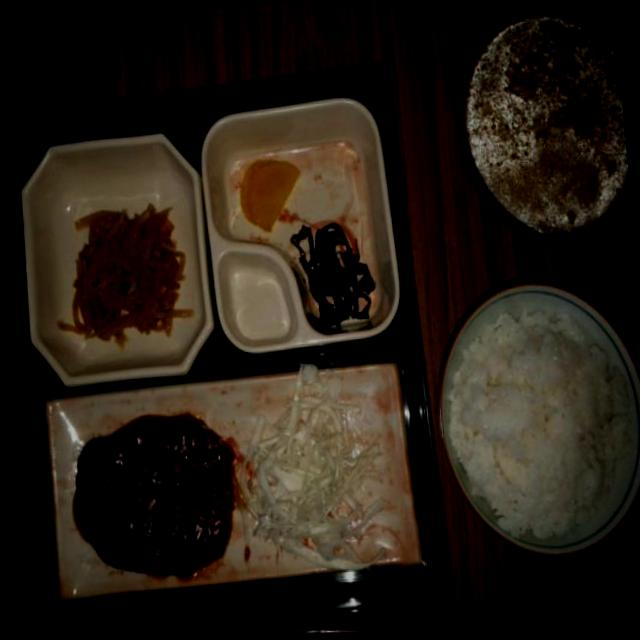Rice: (435, 300, 639, 550)
